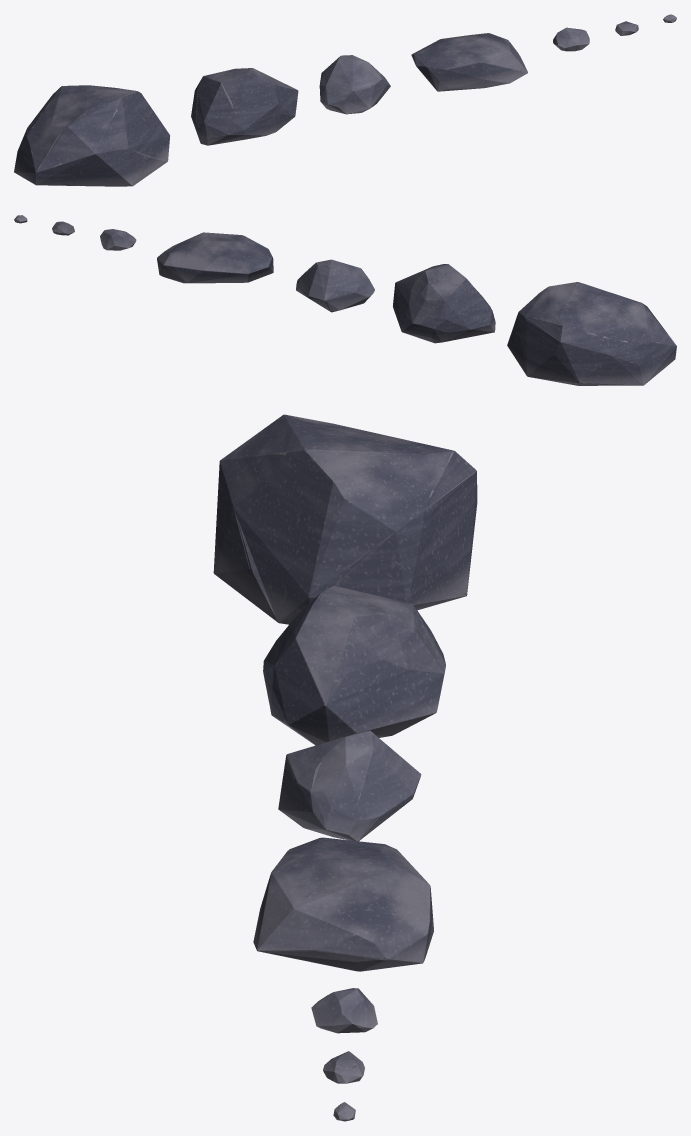
Rendered from rocks.glb.
3 views of the same model, one above another, from view 1: azimuth 30°, elevation 25°; view 2: azimuth 150°, elevation 25°; view 3: azimuth 270°, elevation 25° (orthographic). The views are drawn at different scales.
Parts seen in each view (by area): view 1: Boulder_A, Boulder_B, Boulder_D, Boulder_C, Stone_A; view 2: Boulder_A, Boulder_B, Boulder_D, Boulder_C, Stone_A; view 3: Boulder_A, Boulder_B, Boulder_D, Boulder_C, Stone_A.
Part boxes in pixels (bbox=[...]): Boulder_A: bbox=[14, 85, 169, 186]; Boulder_B: bbox=[191, 68, 298, 145]; Boulder_D: bbox=[411, 33, 527, 91]; Boulder_C: bbox=[319, 55, 390, 114]; Stone_A: bbox=[553, 27, 589, 51]; Boulder_A: bbox=[507, 282, 676, 385]; Boulder_B: bbox=[393, 264, 495, 343]; Boulder_D: bbox=[157, 232, 273, 283]; Boulder_C: bbox=[296, 259, 374, 312]; Stone_A: bbox=[100, 229, 136, 250]; Boulder_A: bbox=[213, 414, 477, 624]; Boulder_B: bbox=[263, 585, 445, 745]; Boulder_D: bbox=[253, 837, 433, 971]; Boulder_C: bbox=[278, 730, 421, 841]; Stone_A: bbox=[311, 988, 377, 1033].
Bounding box in the file's own units: 6.21 × 0.6246 × 1.1.
Materials: 1 (1 with a texture image).
